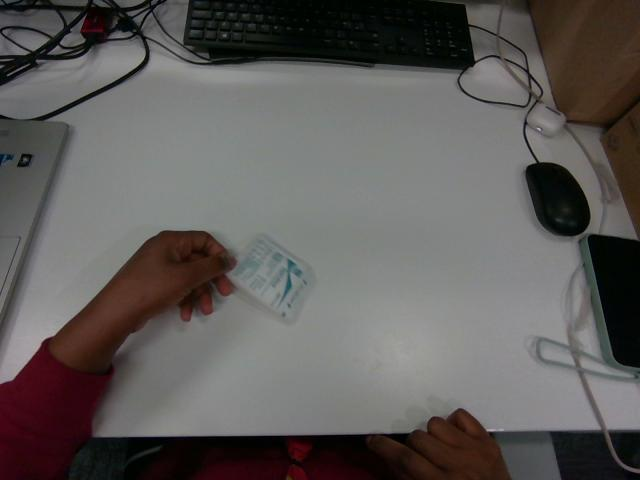gauze: (227, 234, 314, 320)
